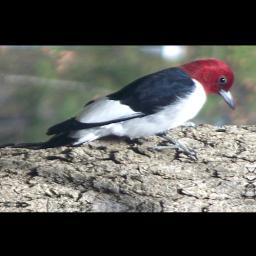Woodpecker: (38, 53, 240, 167)
